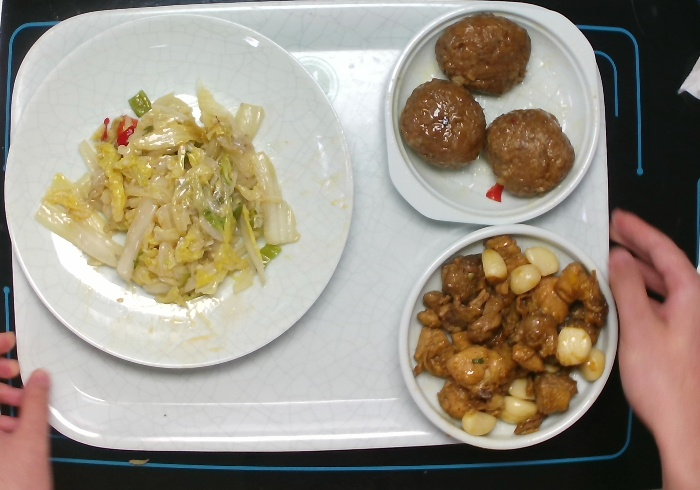JYsf-Da_Yuan_Pan: (1, 12, 350, 367)
JYsf-Shuang_Er_Pan: (387, 3, 599, 225)
JYsf-Xiao_Yuan_Pan: (395, 228, 623, 455)
